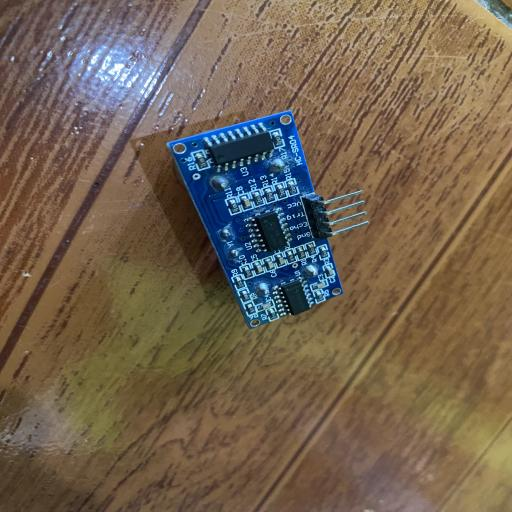Ultrasonic Sensor: (166, 109, 370, 330)
